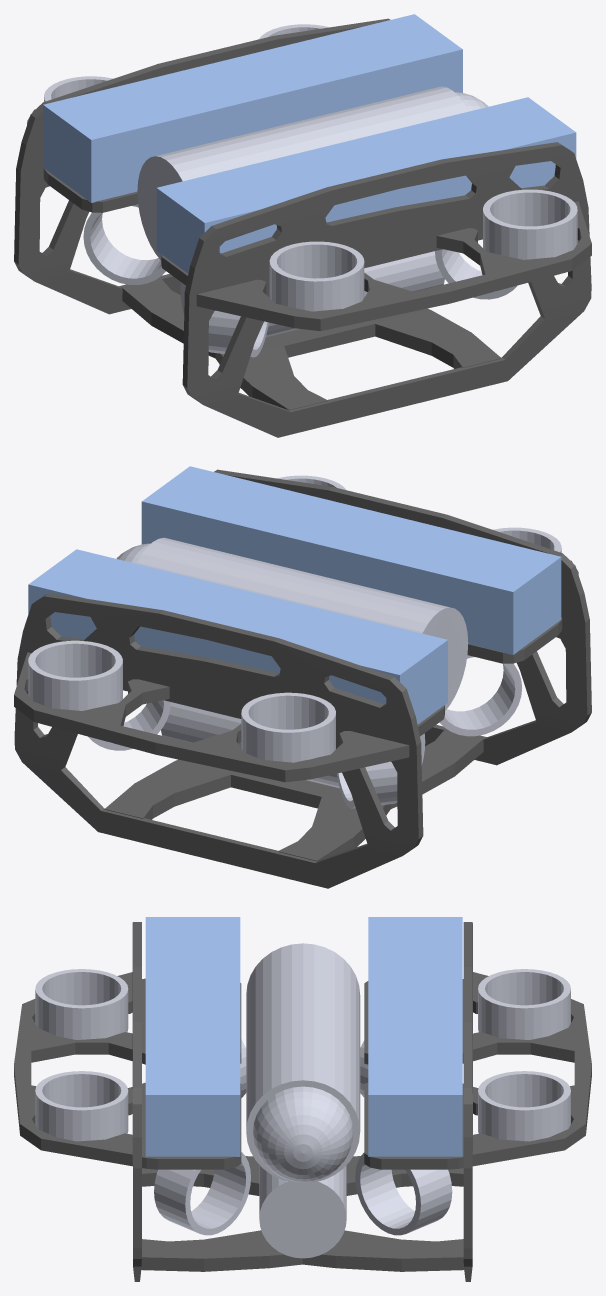
File: BlueROV2heavy.dae
3 views of the same model, one above another, from view 1: azimuth 30°, elevation 25°; view 2: azimuth 150°, elevation 25°; view 3: azimuth 270°, elevation 25° (orthographic).
Visible parts, largest first — view 1: Plane.023; view 2: Plane.023; view 3: Plane.023.
Part boxes in pixels (<box>): Plane.023: <box>14,14,591,437</box>; Plane.023: <box>14,466,591,888</box>; Plane.023: <box>14,917,591,1281</box>.
Bounding box in the file's own units: 0.4551 × 0.5745 × 0.2528.
